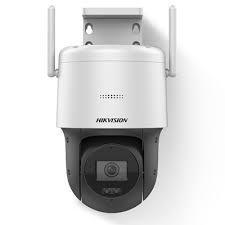maru: (56, 112, 170, 213)
